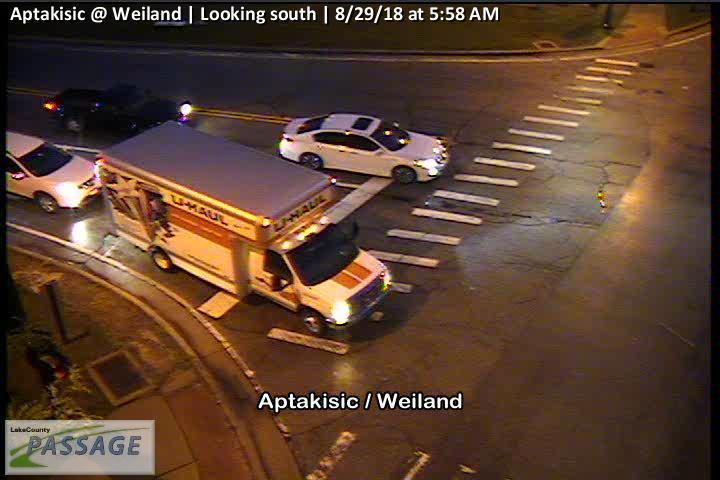Sedan: (276, 113, 450, 186), (1, 128, 104, 216), (45, 83, 192, 134)
Truck: (93, 120, 393, 336)
